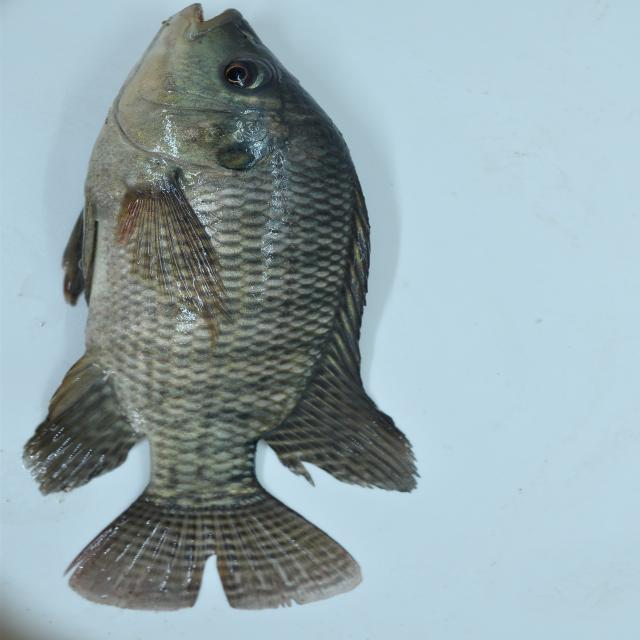Healthy Fish: (19, 3, 415, 614)
